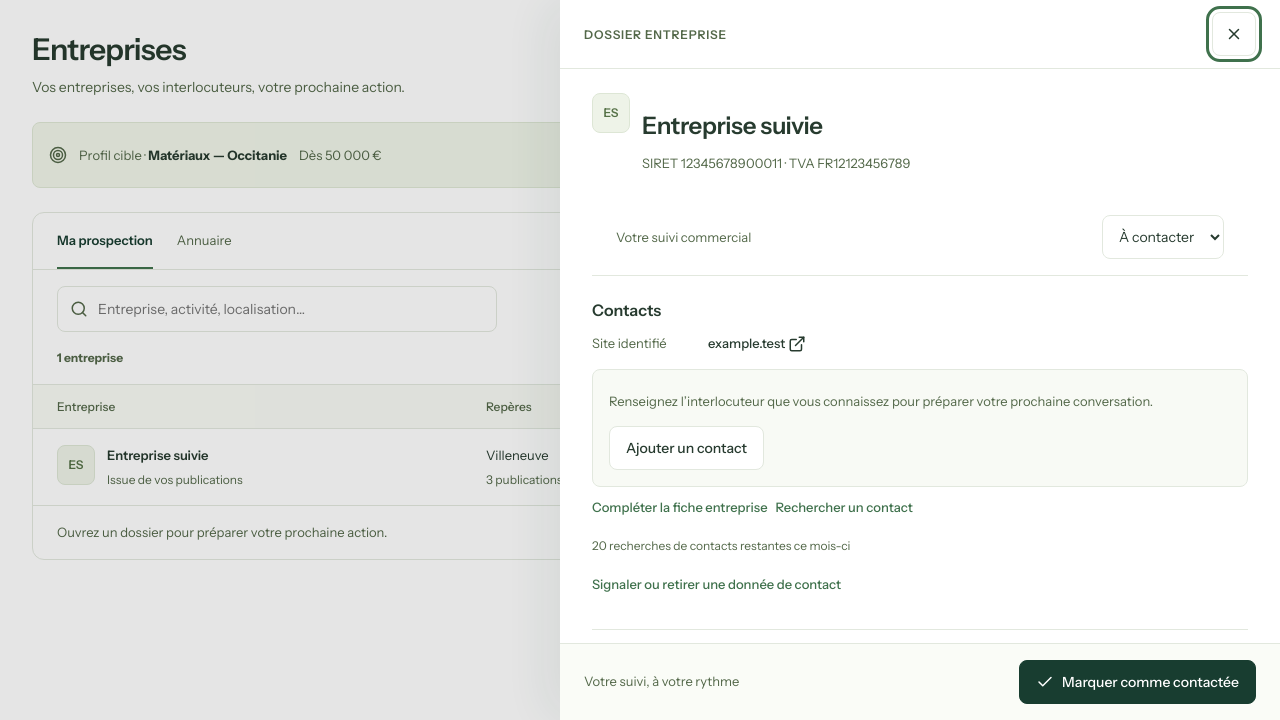
Test case: CompaniesPage V11 business regressions › persists commercial transition contacted from the server response
This screenshot has width=1280, height=720.
Select "Contactée" in the dropdown named "Statut commercial de Entreprise suivie" at {"x": 1163, "y": 237}, box [1102,215,1224,259]
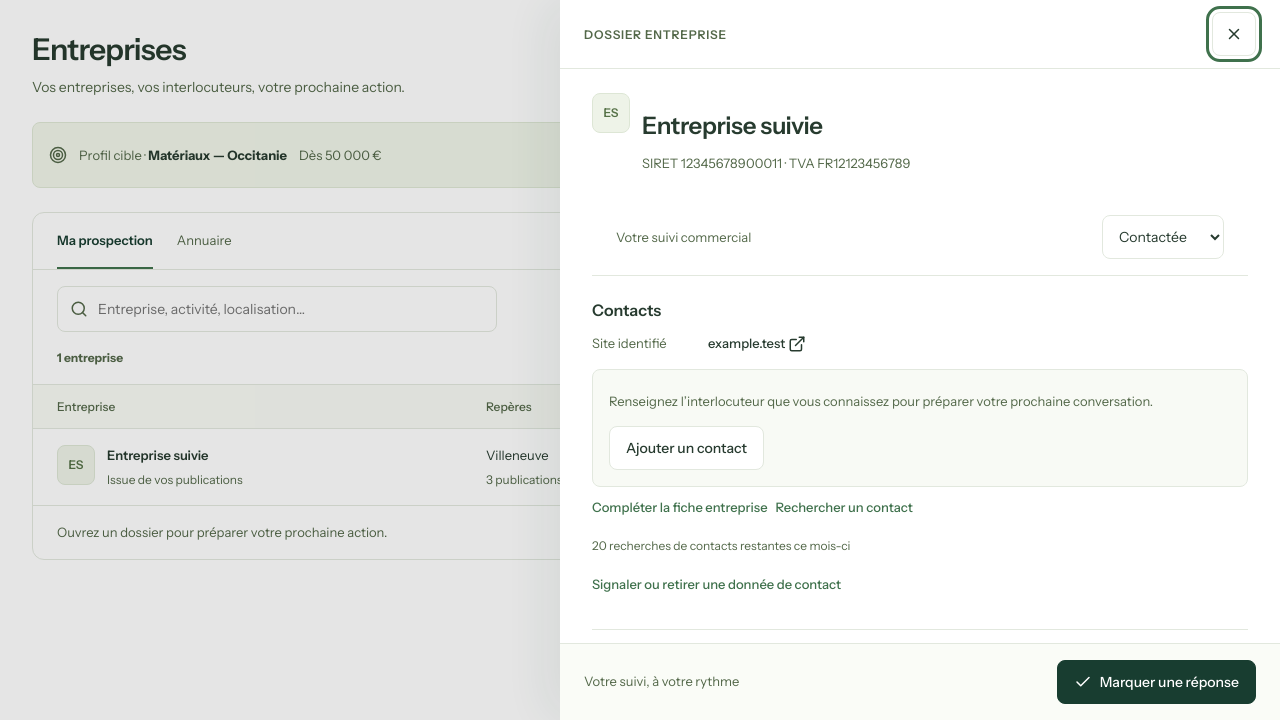
Now the dropdown named "Statut commercial de Entreprise suivie" shows "Contactée", box [1102,215,1224,259]
